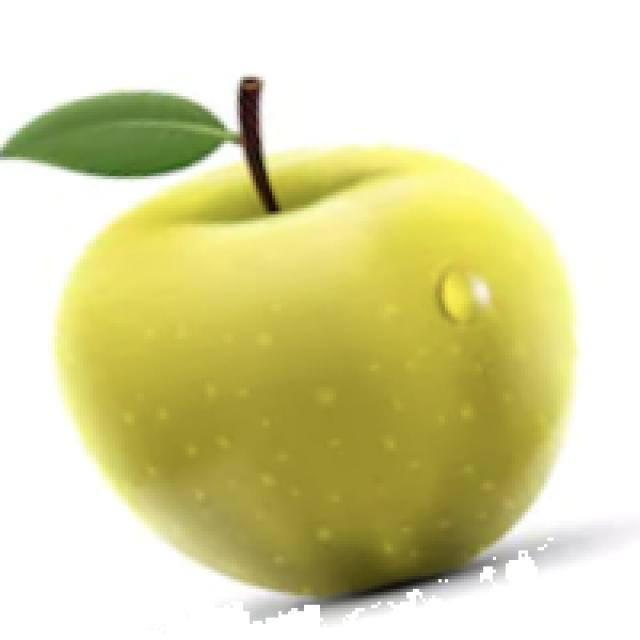apple: (0, 70, 637, 627)
